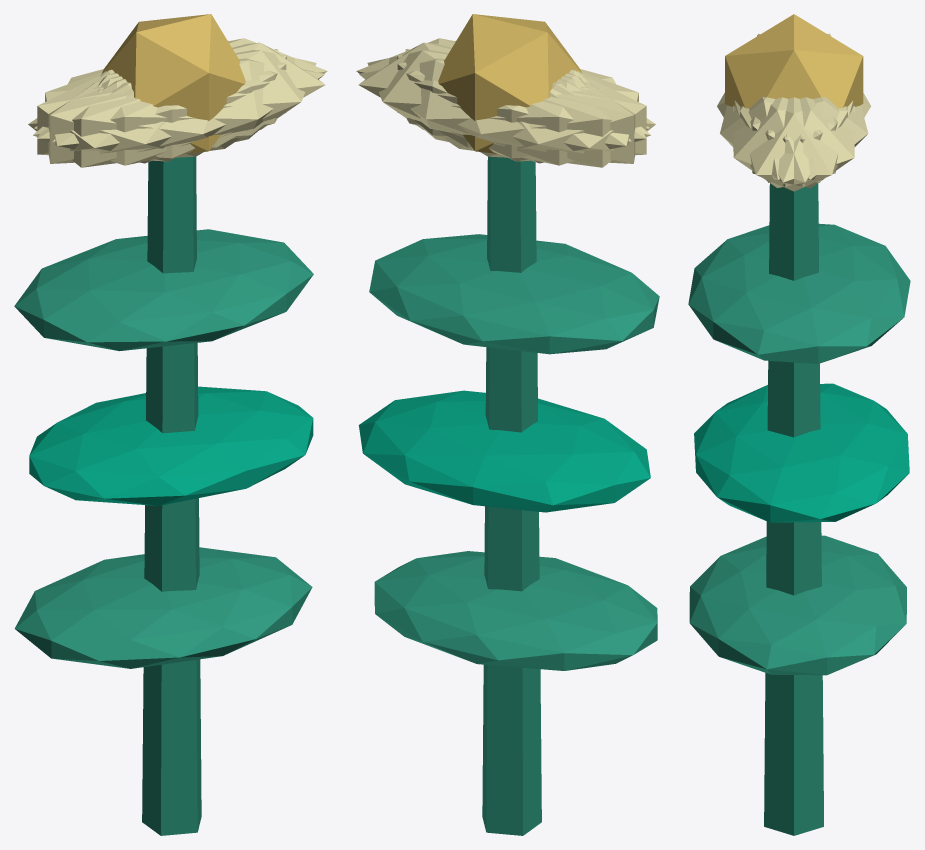
The model's file is ficus-rumphii.glb.
3 renders of one model, left to right at view 1: azimuth 30°, elevation 25°; view 2: azimuth 150°, elevation 25°; view 3: azimuth 270°, elevation 25°, orthographic.
Visible parts, largest first — view 1: stem, leaf2, leaf0, leaf1, center, petal1, petal6, petal2, petal5, petal7, petal0, petal4 (+2 smaller); view 2: leaf1, leaf2, leaf0, stem, center, petal8, petal3, petal7, petal4, petal2, petal0, petal5 (+2 smaller); view 3: leaf2, stem, leaf1, leaf0, center, petal0, petal4, petal5, petal8, petal1.
Part boxes in pixels (box(x1,y1,x2,y2)): stem: box(142, 156, 201, 835); leaf2: box(14, 229, 313, 351); leaf0: box(14, 547, 312, 668); leaf1: box(29, 386, 313, 505); center: box(101, 14, 245, 153); petal1: box(33, 58, 324, 165); petal6: box(28, 71, 239, 167); petal2: box(48, 49, 278, 163); petal5: box(52, 50, 316, 158); petal7: box(37, 55, 286, 161); petal0: box(101, 42, 325, 147); petal4: box(34, 38, 327, 139); leaf1: box(358, 390, 650, 512); leaf2: box(369, 234, 659, 354); leaf0: box(374, 551, 657, 670); stem: box(482, 156, 541, 835); center: box(438, 14, 582, 153); petal8: box(359, 58, 650, 165); petal3: box(444, 71, 655, 167); petal7: box(405, 49, 635, 163); petal4: box(367, 50, 631, 158); petal2: box(397, 55, 646, 161); petal0: box(358, 42, 582, 147); petal5: box(356, 38, 649, 139); leaf2: box(688, 223, 910, 363); stem: box(764, 183, 823, 835); leaf1: box(694, 383, 909, 522); leaf0: box(689, 535, 906, 675); center: box(725, 14, 863, 108); petal0: box(734, 97, 853, 191); petal4: box(740, 97, 854, 188); petal5: box(733, 97, 847, 187); petal8: box(750, 97, 868, 179); petal1: box(720, 97, 837, 179).
Bounding box in the file's own units: 0.1463 × 0.3863 × 0.0984.
